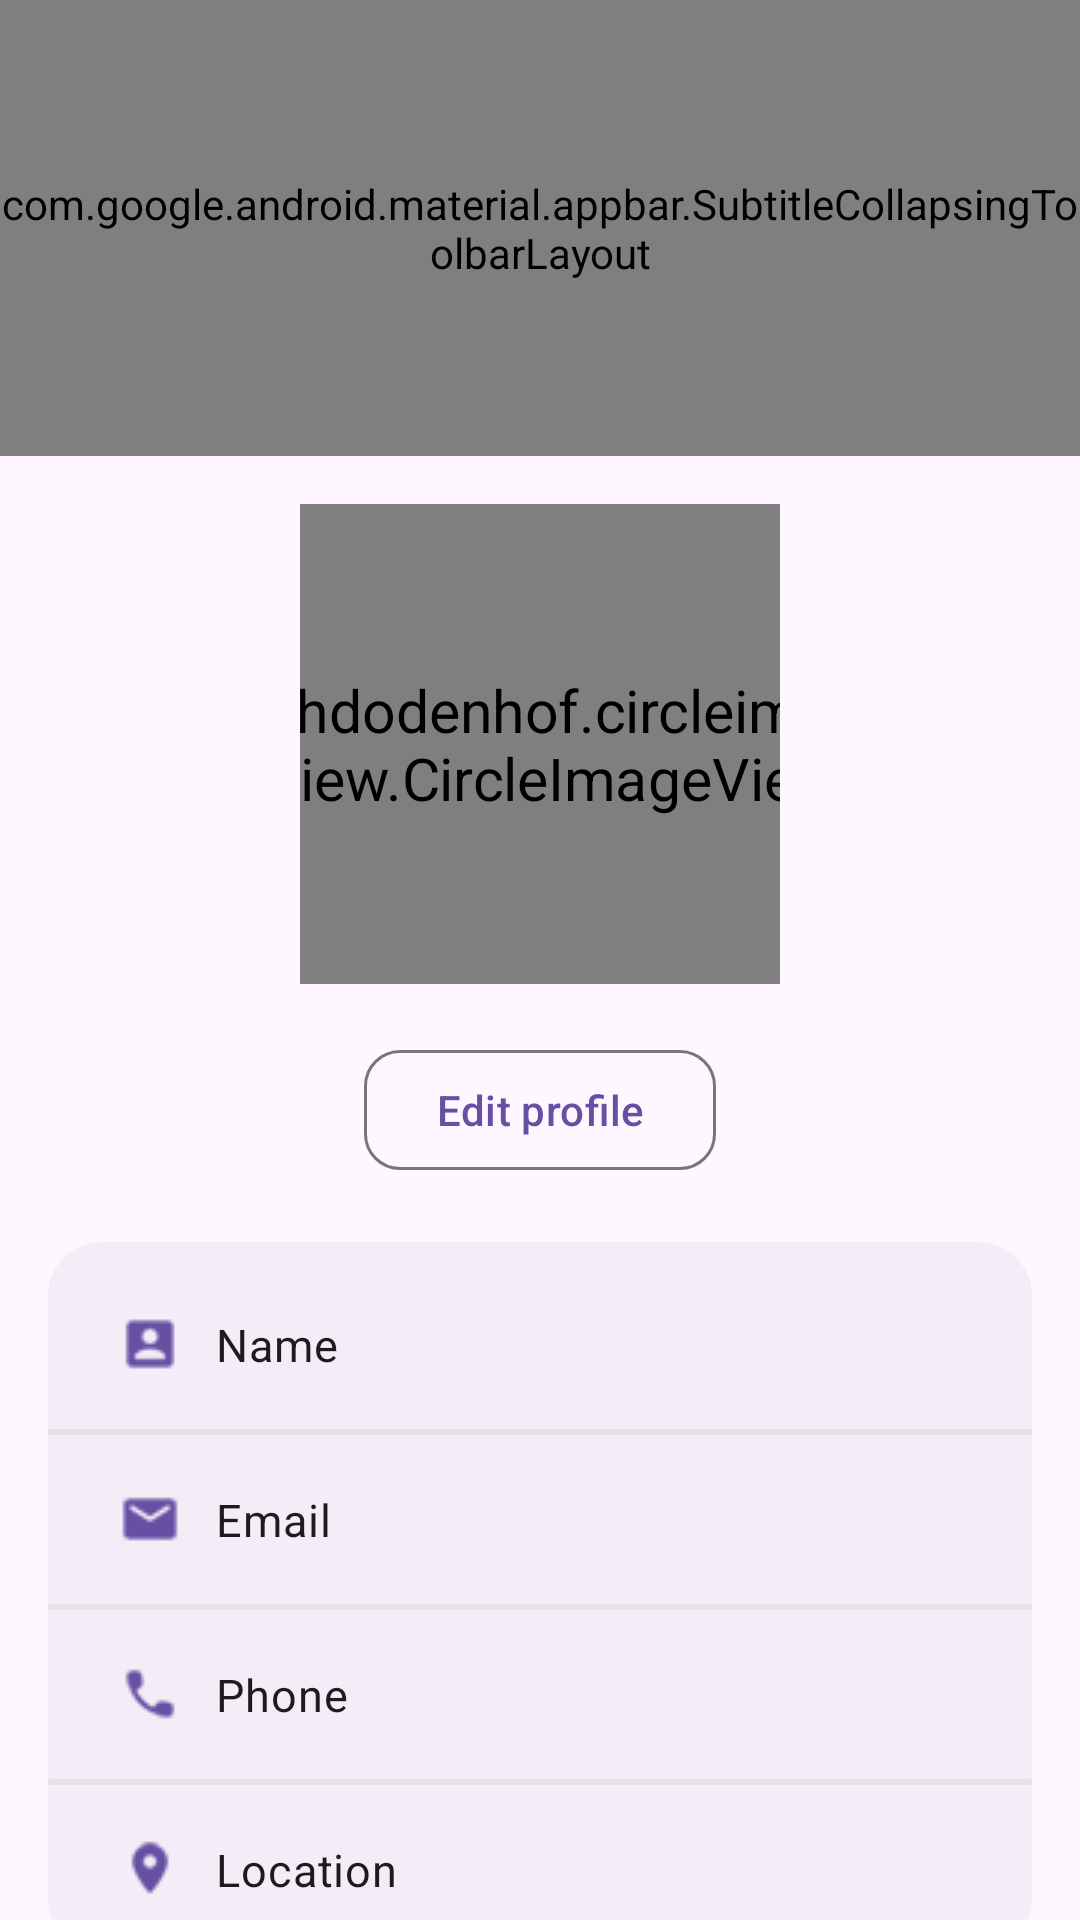

Icons on this 1080px×1920px Android screen, each with its box as (x1, y1, x2, y2):
call: (125, 1669, 175, 1719)
